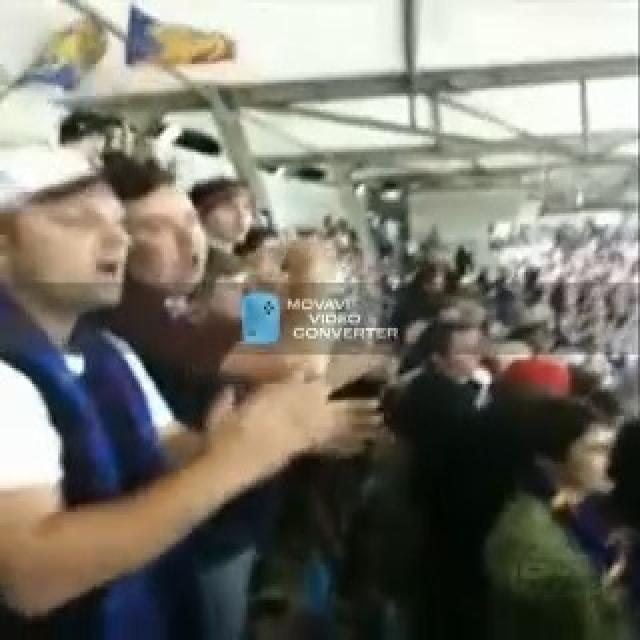non-voilence: (0, 128, 380, 637), (122, 3, 236, 69)
